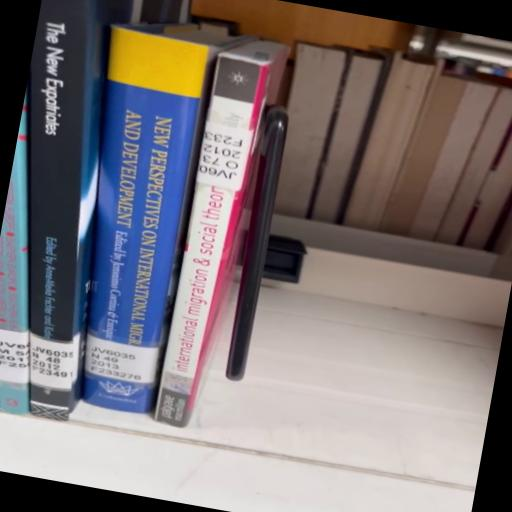reverse: (155, 40, 288, 428)
